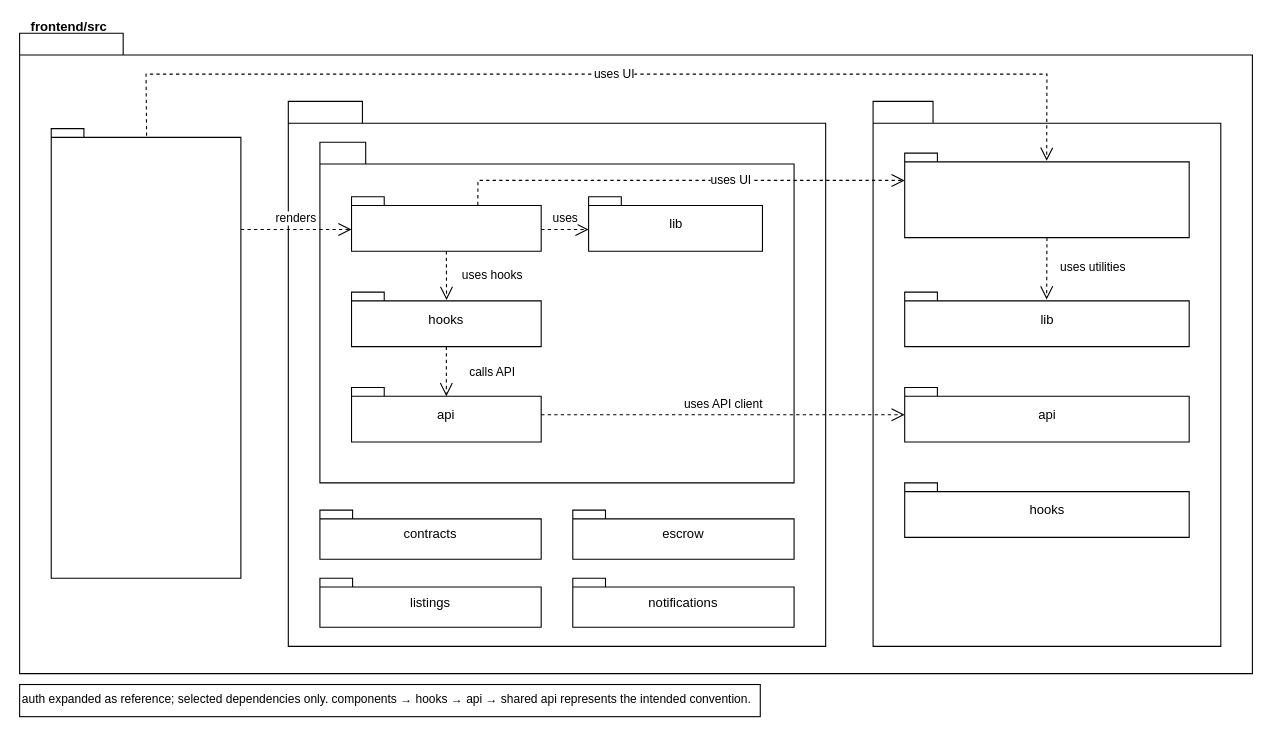
Image size: 1271x736. Some labels were removed from this diagram. The box of each missing label's shape, as (x1, y1, x2, y2) in pixels:
auth: (319, 141, 794, 483)
components: (350, 196, 541, 251)
features: (287, 100, 826, 646)
routes: (50, 128, 241, 578)
shared: (872, 100, 1221, 646)
ui: (904, 152, 1189, 238)
